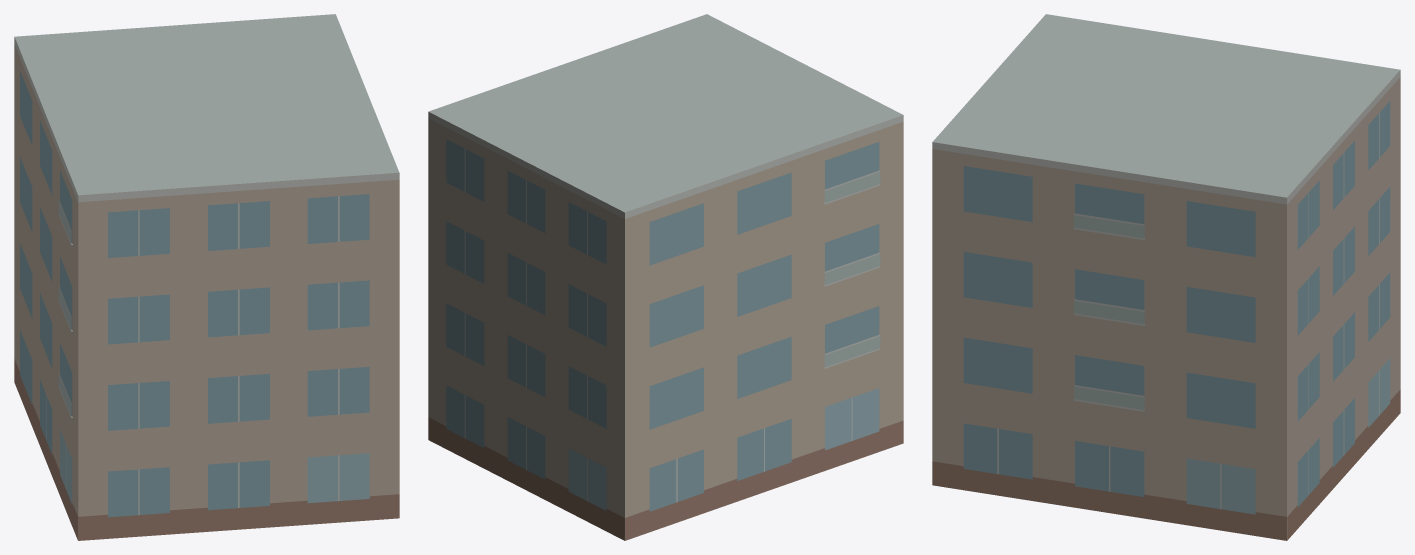
The model's file is survey-upis-33017327.glb.
3 views of the same model, side by side, from view 1: azimuth 30°, elevation 25°; view 2: azimuth 150°, elevation 25°; view 3: azimuth 270°, elevation 25° (orthographic). The views are drawn at different scales.
Parts seen in each view (by area): view 1: survey-upis-33017327.tmp; view 2: survey-upis-33017327.tmp; view 3: survey-upis-33017327.tmp.
Part boxes in pixels (x1,y1,x2,y2): survey-upis-33017327.tmp: (14, 14, 399, 540); survey-upis-33017327.tmp: (428, 14, 903, 540); survey-upis-33017327.tmp: (932, 14, 1400, 540).
Bounding box in the file's own units: 14.01 × 12.2 × 15.09.
